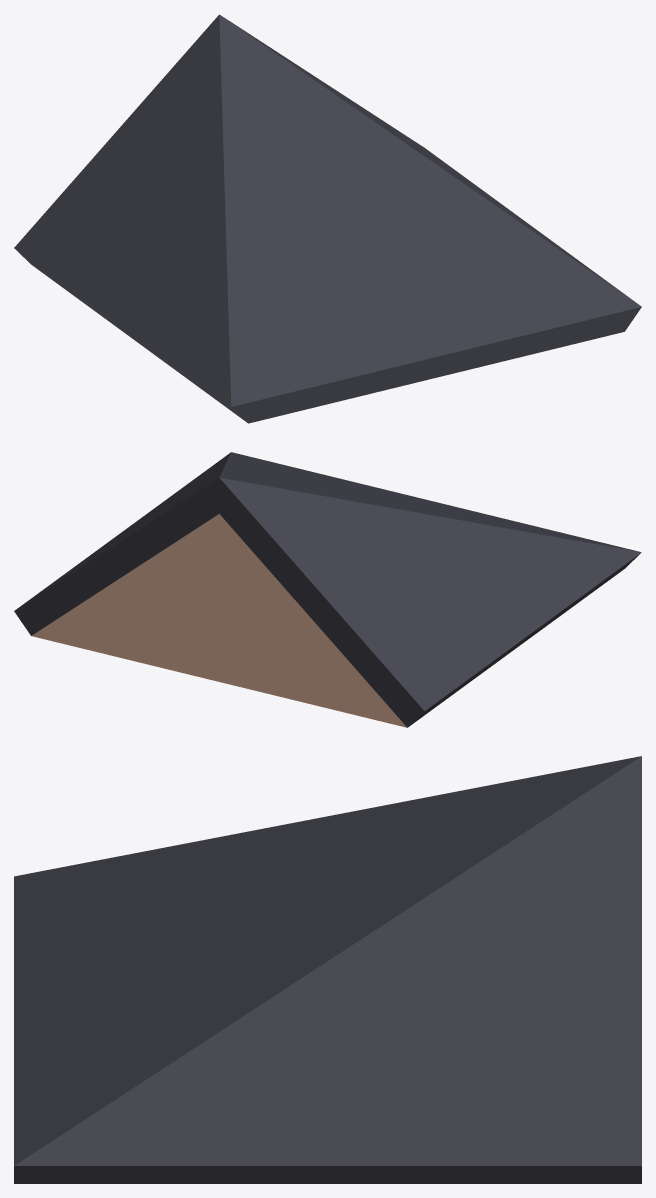
The model's file is RoofGableEnd.fbx.
3 renders of one model, top to bottom at view 1: azimuth 30°, elevation 25°; view 2: azimuth 150°, elevation 25°; view 3: azimuth 270°, elevation 25°, orthographic. The views are drawn at different scales.
Visible parts, largest first — view 1: RoofGableEnd; view 2: RoofGableEnd; view 3: RoofGableEnd.
Boxes of the visible parts, bbox=[...] form: RoofGableEnd: bbox=[14, 14, 641, 423]; RoofGableEnd: bbox=[14, 452, 641, 727]; RoofGableEnd: bbox=[14, 756, 641, 1183].
Size of the model in its own units: 327 by 156 by 300.
